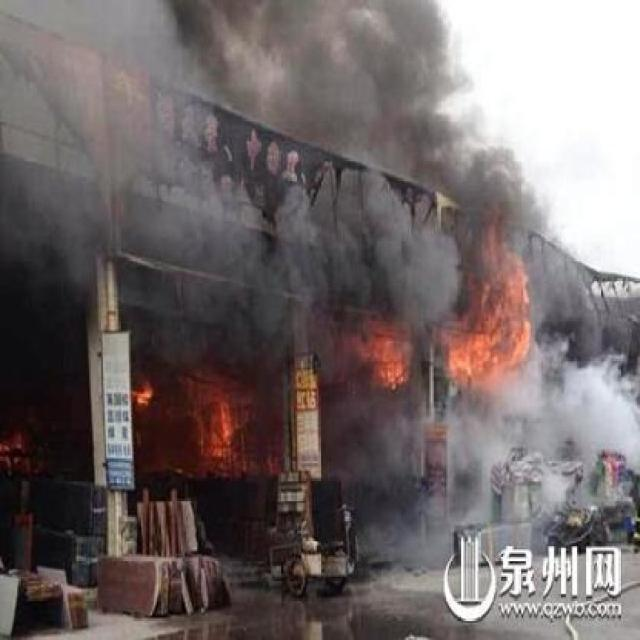Fire: (356, 228, 550, 387), (191, 350, 282, 490), (126, 380, 162, 410)
Smoke: (6, 2, 362, 352), (376, 2, 534, 226)
